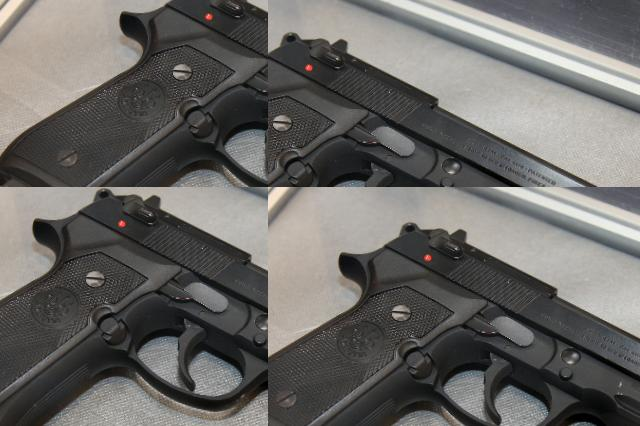handgun: (268, 204, 640, 426), (268, 17, 322, 78), (150, 0, 210, 49), (0, 187, 44, 228)
